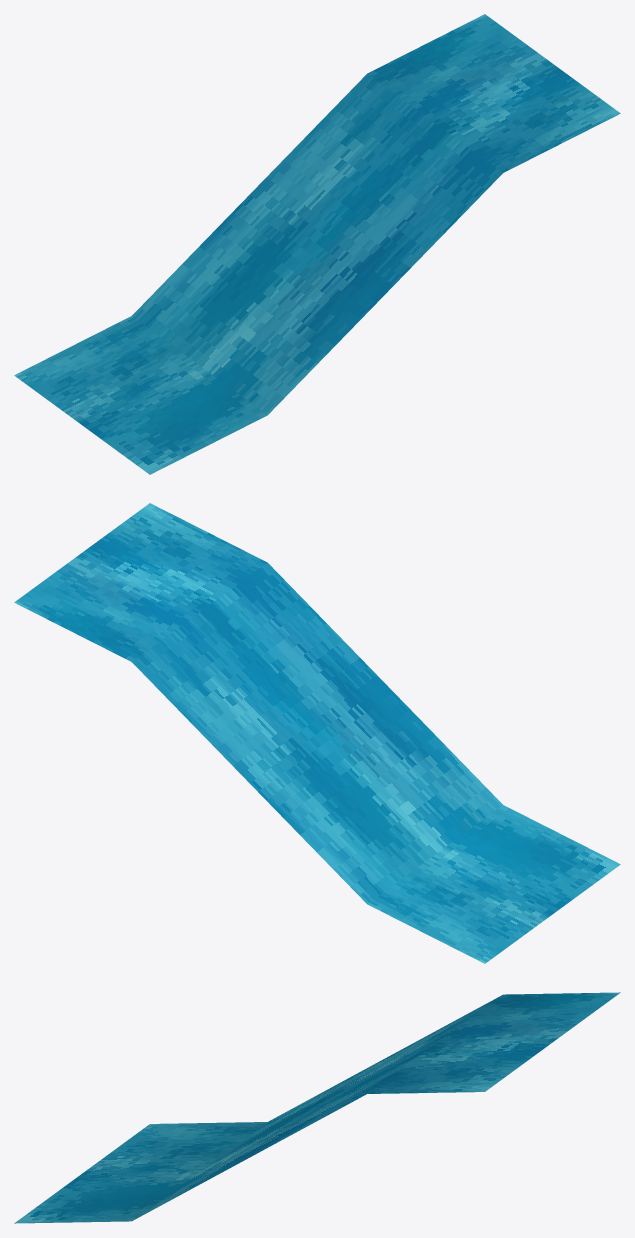
File: Terrain_Water_River_Incline_Sharp_1x2.glb
3 views of the same model, one above another, from view 1: azimuth 30°, elevation 25°; view 2: azimuth 150°, elevation 25°; view 3: azimuth 330°, elevation 25° (orthographic).
Visible parts, largest first — view 1: Terrain_Water_River_Incline_Sharp_1x2; view 2: Terrain_Water_River_Incline_Sharp_1x2; view 3: Terrain_Water_River_Incline_Sharp_1x2.
Part boxes in pixels (x1,y1,x2,y2): Terrain_Water_River_Incline_Sharp_1x2: (14, 14, 620, 474); Terrain_Water_River_Incline_Sharp_1x2: (14, 503, 620, 963); Terrain_Water_River_Incline_Sharp_1x2: (14, 992, 620, 1223).
Size of the model in its own units: 2 by 1 by 1.
Materials: 1 (1 with a texture image).
